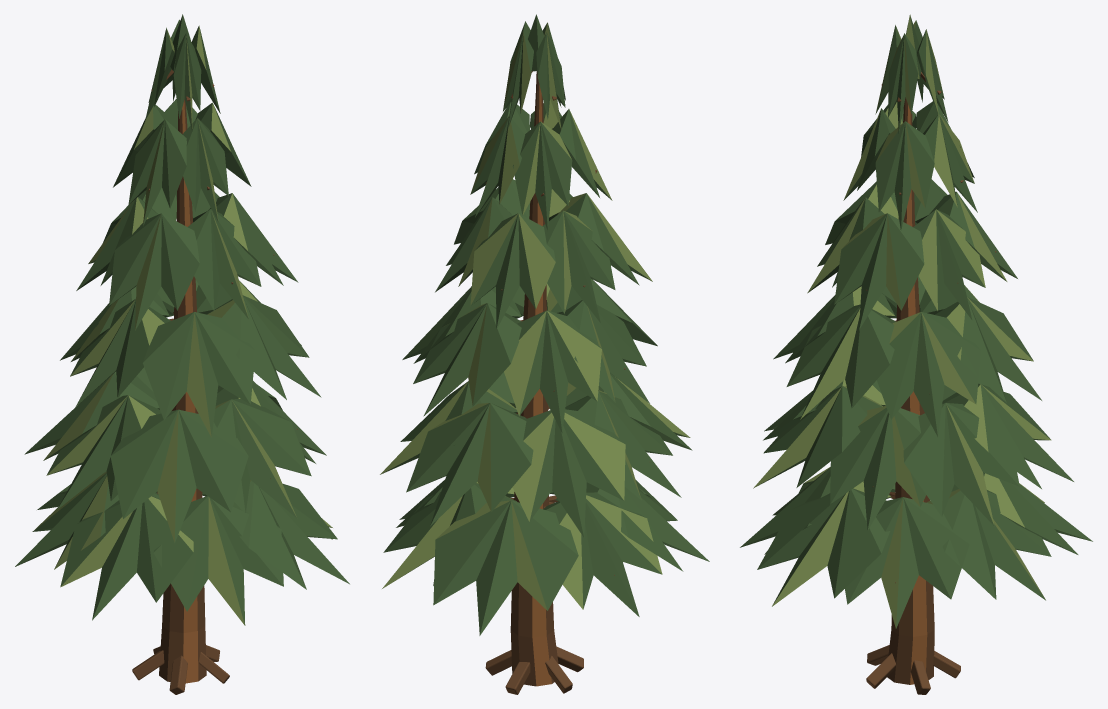
The model's file is PineSample.fbx.
3 renders of one model, left to right at view 1: azimuth 30°, elevation 25°; view 2: azimuth 150°, elevation 25°; view 3: azimuth 270°, elevation 25°, orthographic.
Parts seen in each view (by area): view 1: PineSample_Mesh; view 2: PineSample_Mesh; view 3: PineSample_Mesh.
Boxes of the visible parts, x1,y1,x2,y2 form: PineSample_Mesh: [15, 14, 349, 694]; PineSample_Mesh: [380, 14, 709, 694]; PineSample_Mesh: [740, 14, 1092, 694].
Size of the model in its own units: 2.13 by 4.82 by 2.33.
